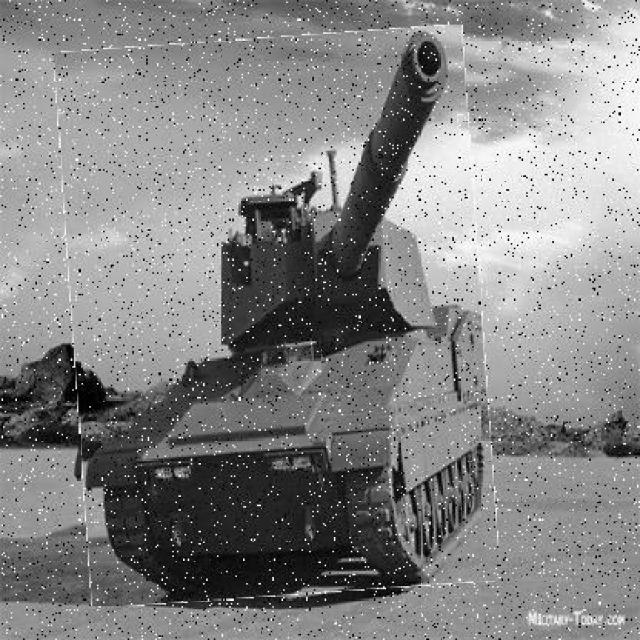Tank: (64, 34, 492, 603)
